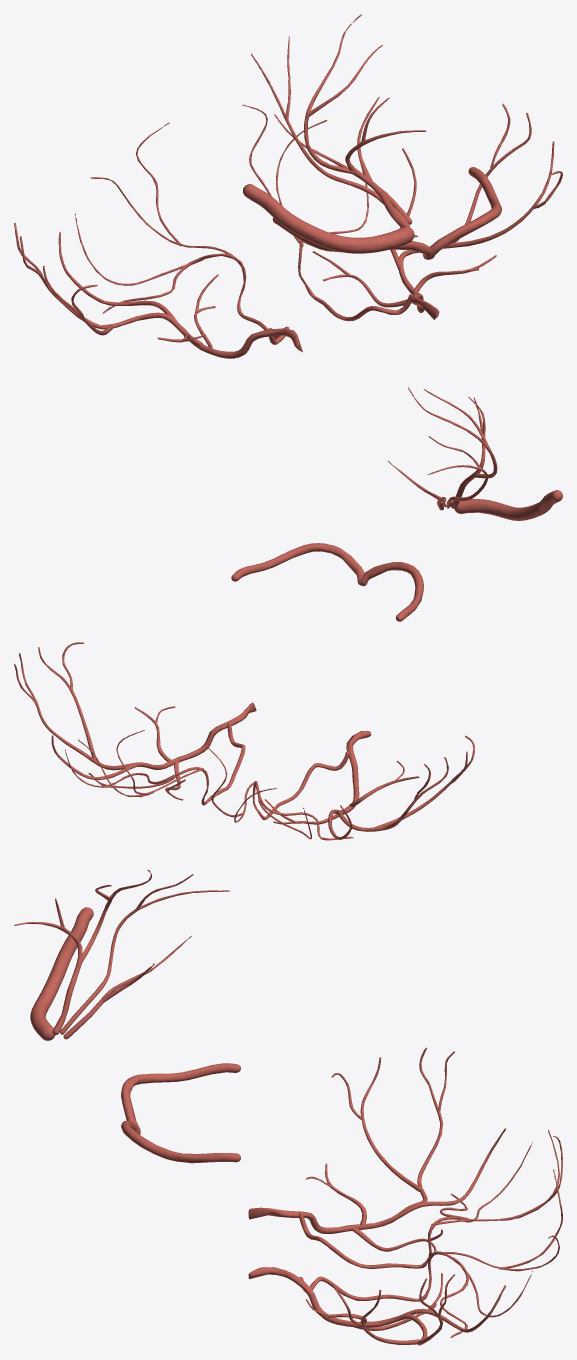
The model's file is cranial-arteries.glb.
3 views of the same model, one above another, from view 1: azimuth 30°, elevation 25°; view 2: azimuth 150°, elevation 25°; view 3: azimuth 270°, elevation 25° (orthographic). The views are drawn at different scales.
Parts seen in each view (by area): view 1: FMA50082, FMA50519, FMA50520, FMA50575, FMA50574; view 2: FMA50520, FMA50519, FMA50082, FMA50575, FMA50574; view 3: FMA50519, FMA50082, FMA50520, FMA50574, FMA50575.
Part boxes in pixels (x1,y1,x2,y2): FMA50082: (243,14,426,253); FMA50519: (14,122,302,358); FMA50520: (242,103,562,321); FMA50575: (430,167,501,258); FMA50574: (272,217,432,259); FMA50520: (14,642,256,805); FMA50519: (205,730,474,840); FMA50082: (387,387,562,520); FMA50575: (231,543,364,585); FMA50574: (361,562,423,621); FMA50519: (248,1047,562,1268); FMA50082: (14,869,229,1040); FMA50520: (248,1169,562,1345); FMA50574: (121,1063,240,1131); FMA50575: (121,1120,240,1163).
Size of the model in its own units: 1.07 by 0.8419 by 1.07.
